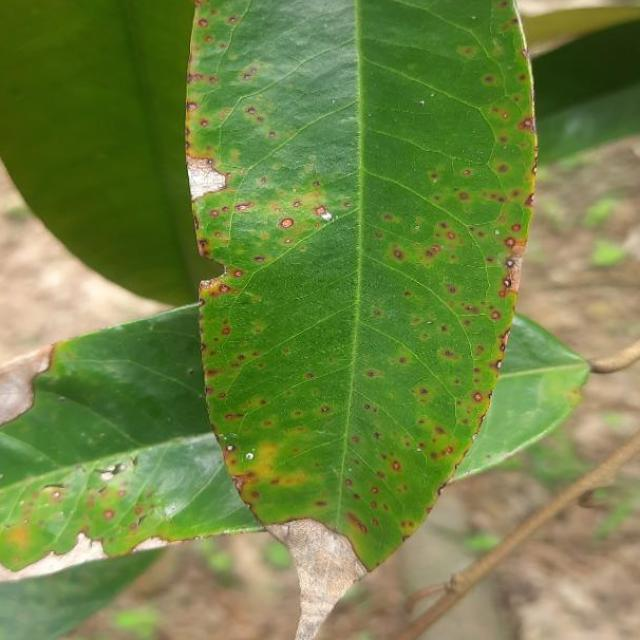Leaf Spot: (167, 0, 564, 640)
